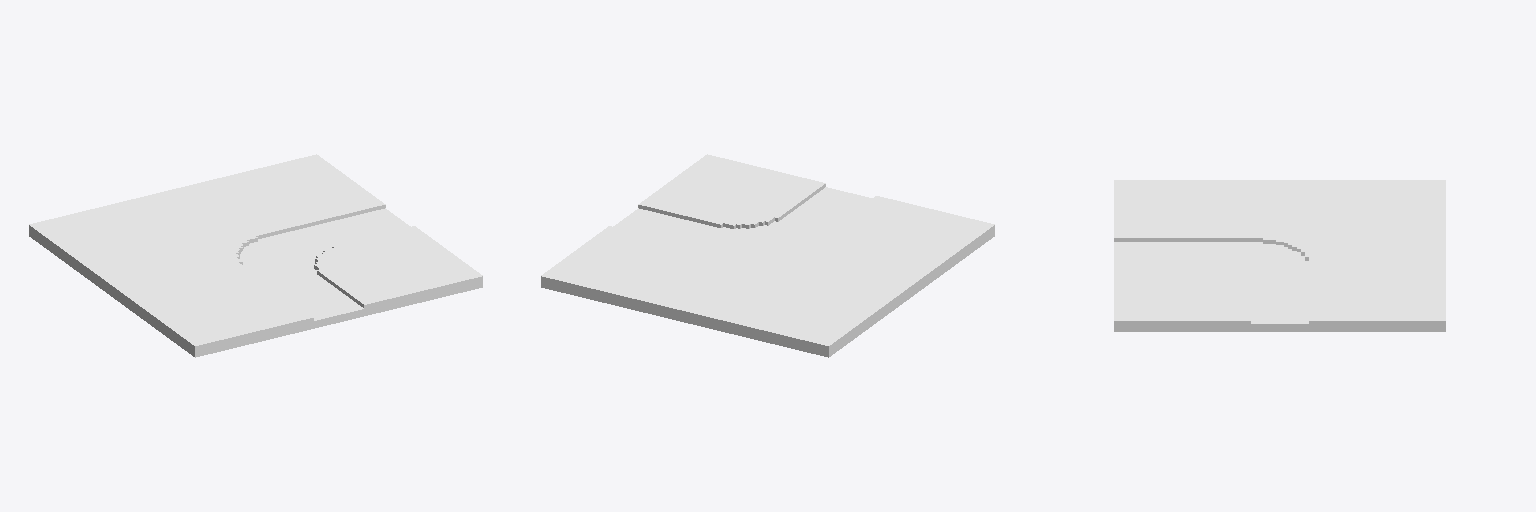
File: sharpCorner.obj
3 renders of one model, left to right at view 1: azimuth 30°, elevation 25°; view 2: azimuth 150°, elevation 25°; view 3: azimuth 270°, elevation 25°, orthographic.
Parts seen in each view (by area): view 1: sharpCorner; view 2: sharpCorner; view 3: sharpCorner.
Boxes of the visible parts, x1,y1,x2,y2 form: sharpCorner: [29, 154, 482, 357]; sharpCorner: [541, 154, 994, 357]; sharpCorner: [1114, 180, 1445, 331].
Size of the model in its own units: 80 by 3 by 80.